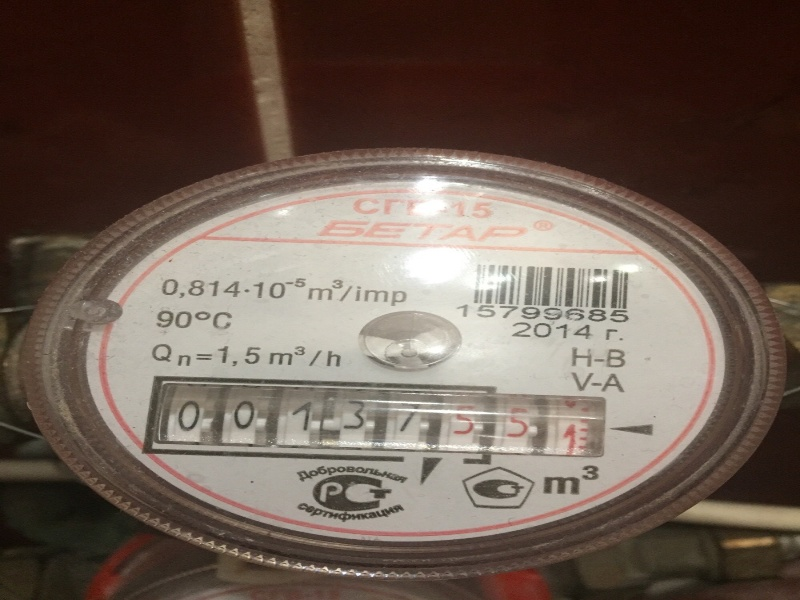dial: (156, 397, 591, 450)
